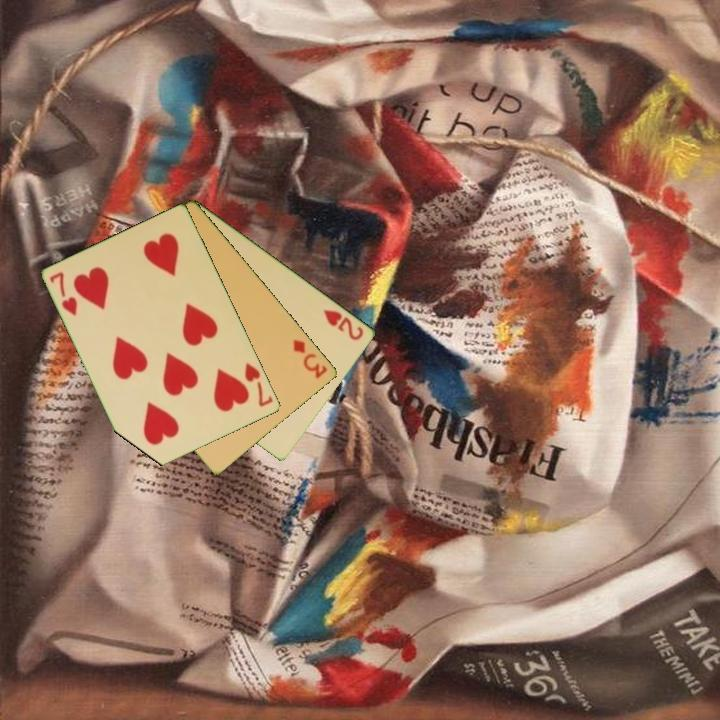2h: (320, 306, 367, 343)
3d: (290, 335, 331, 381)
7h: (241, 359, 276, 410), (46, 268, 81, 319)
